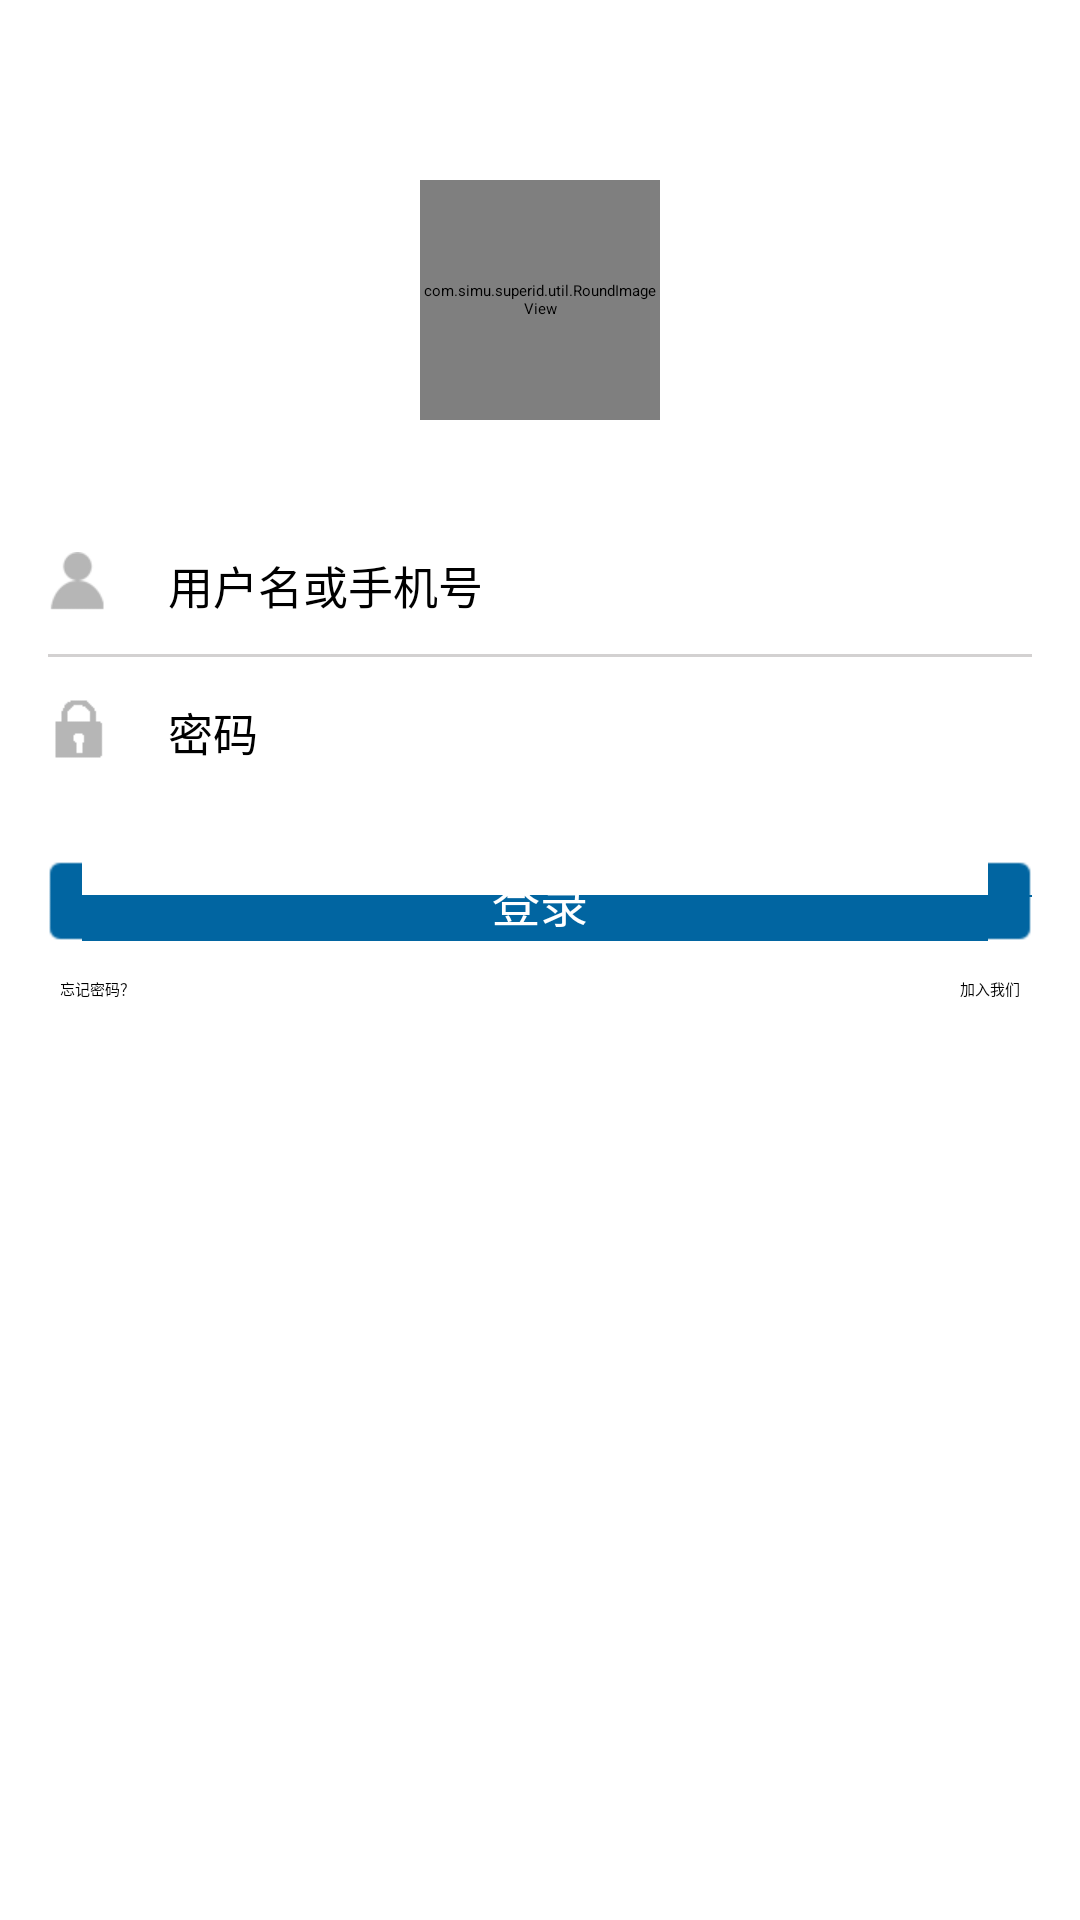

Point at icon controls on the screen. Image size 1080 × 1920, points as [x,y].
login password: [78,729]
login username: [77,580]
